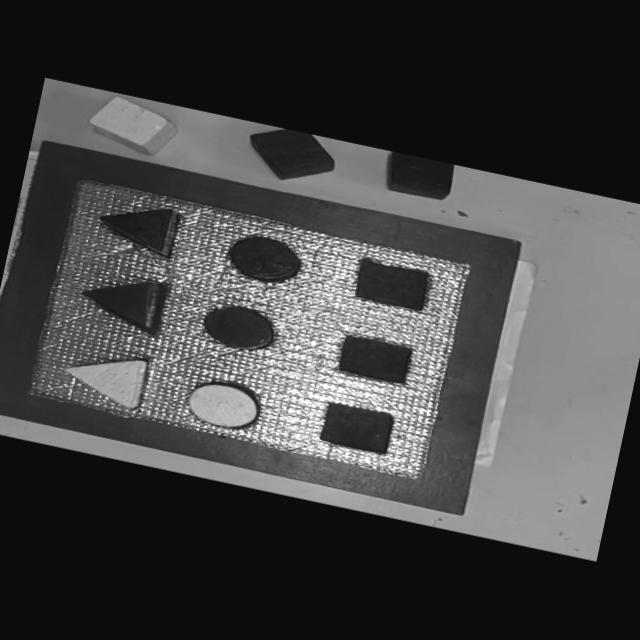bcircle: (224, 230, 307, 290)
bcube: (382, 151, 457, 203)
btriangle: (91, 194, 182, 260)
mtcube: (348, 256, 436, 316), (316, 398, 398, 458), (333, 331, 417, 388)
rcircle: (198, 300, 278, 356)
rcube: (242, 122, 340, 190)
rtriangle: (76, 268, 168, 336)
wb: (23, 176, 477, 486)
ycircle: (182, 376, 264, 436)
ycube: (82, 89, 182, 160)
ytriangle: (56, 343, 151, 414)
